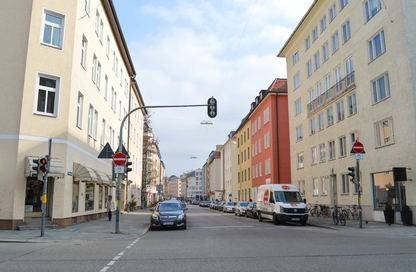ambulance: (257, 183, 308, 227)
